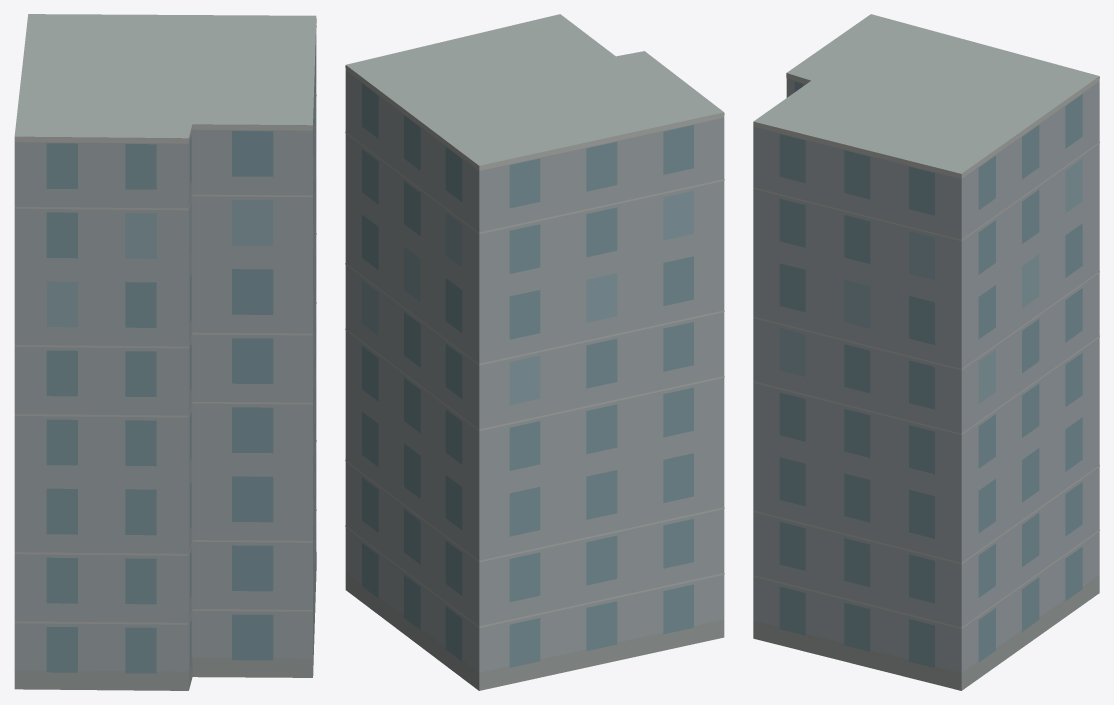
Rendered from survey-upis-32739692.glb.
3 views of the same model, side by side, from view 1: azimuth 30°, elevation 25°; view 2: azimuth 150°, elevation 25°; view 3: azimuth 270°, elevation 25° (orthographic). The views are drawn at different scales.
Visible parts, largest first — view 1: survey-upis-32739692.tmp; view 2: survey-upis-32739692.tmp; view 3: survey-upis-32739692.tmp.
Boxes of the visible parts, x1,y1,x2,y2 form: survey-upis-32739692.tmp: [14, 14, 316, 690]; survey-upis-32739692.tmp: [345, 14, 724, 690]; survey-upis-32739692.tmp: [753, 14, 1099, 690].
Bounding box in the file's own units: 16.4 × 24.7 × 15.01.
